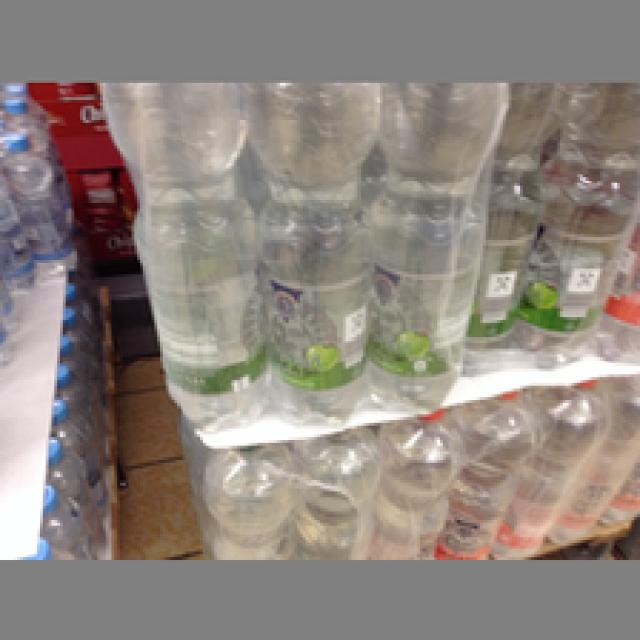groceries: (97, 80, 266, 426), (237, 80, 383, 426), (372, 80, 508, 403), (506, 80, 637, 369)
